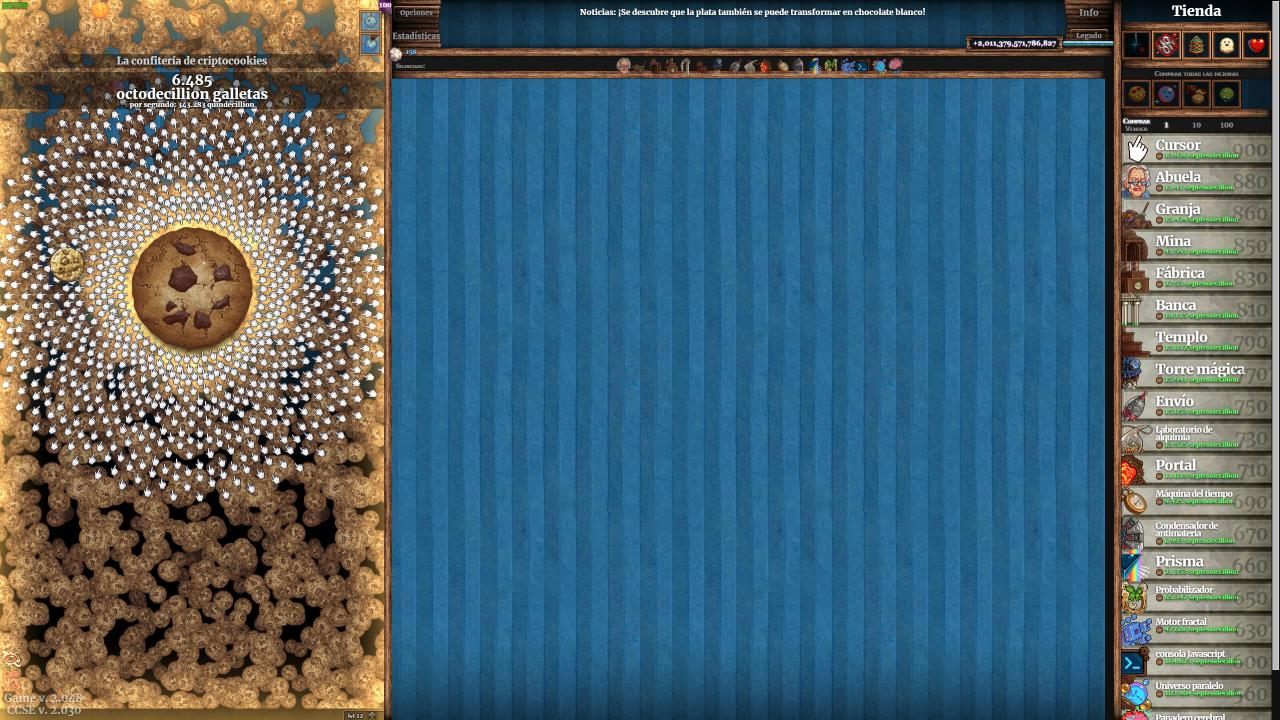GoldenCookie: (48, 246, 86, 284)
